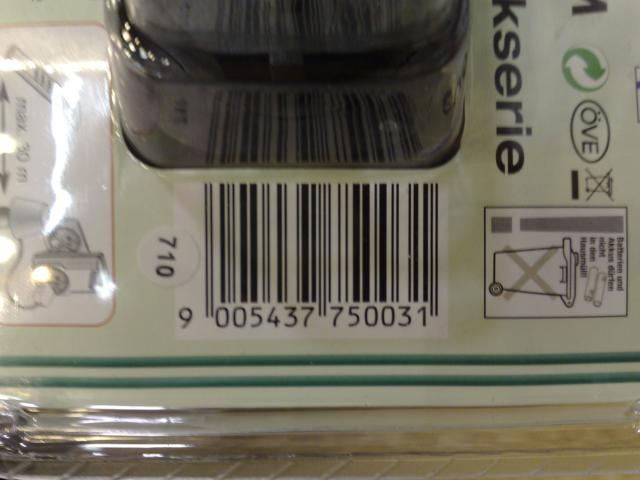Barcode: (173, 179, 449, 339)
